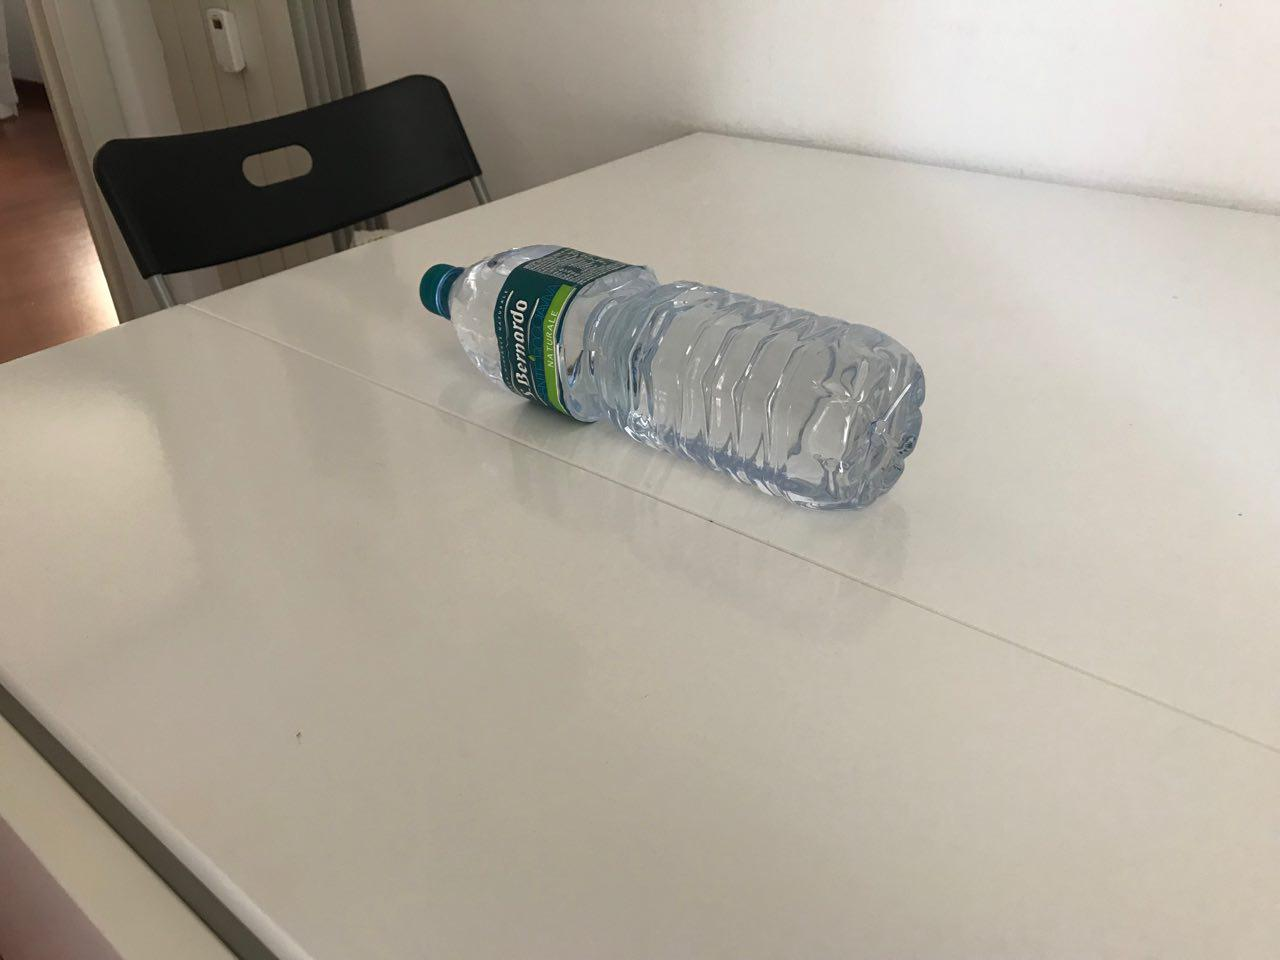san_bernardo: (417, 243, 927, 513)
